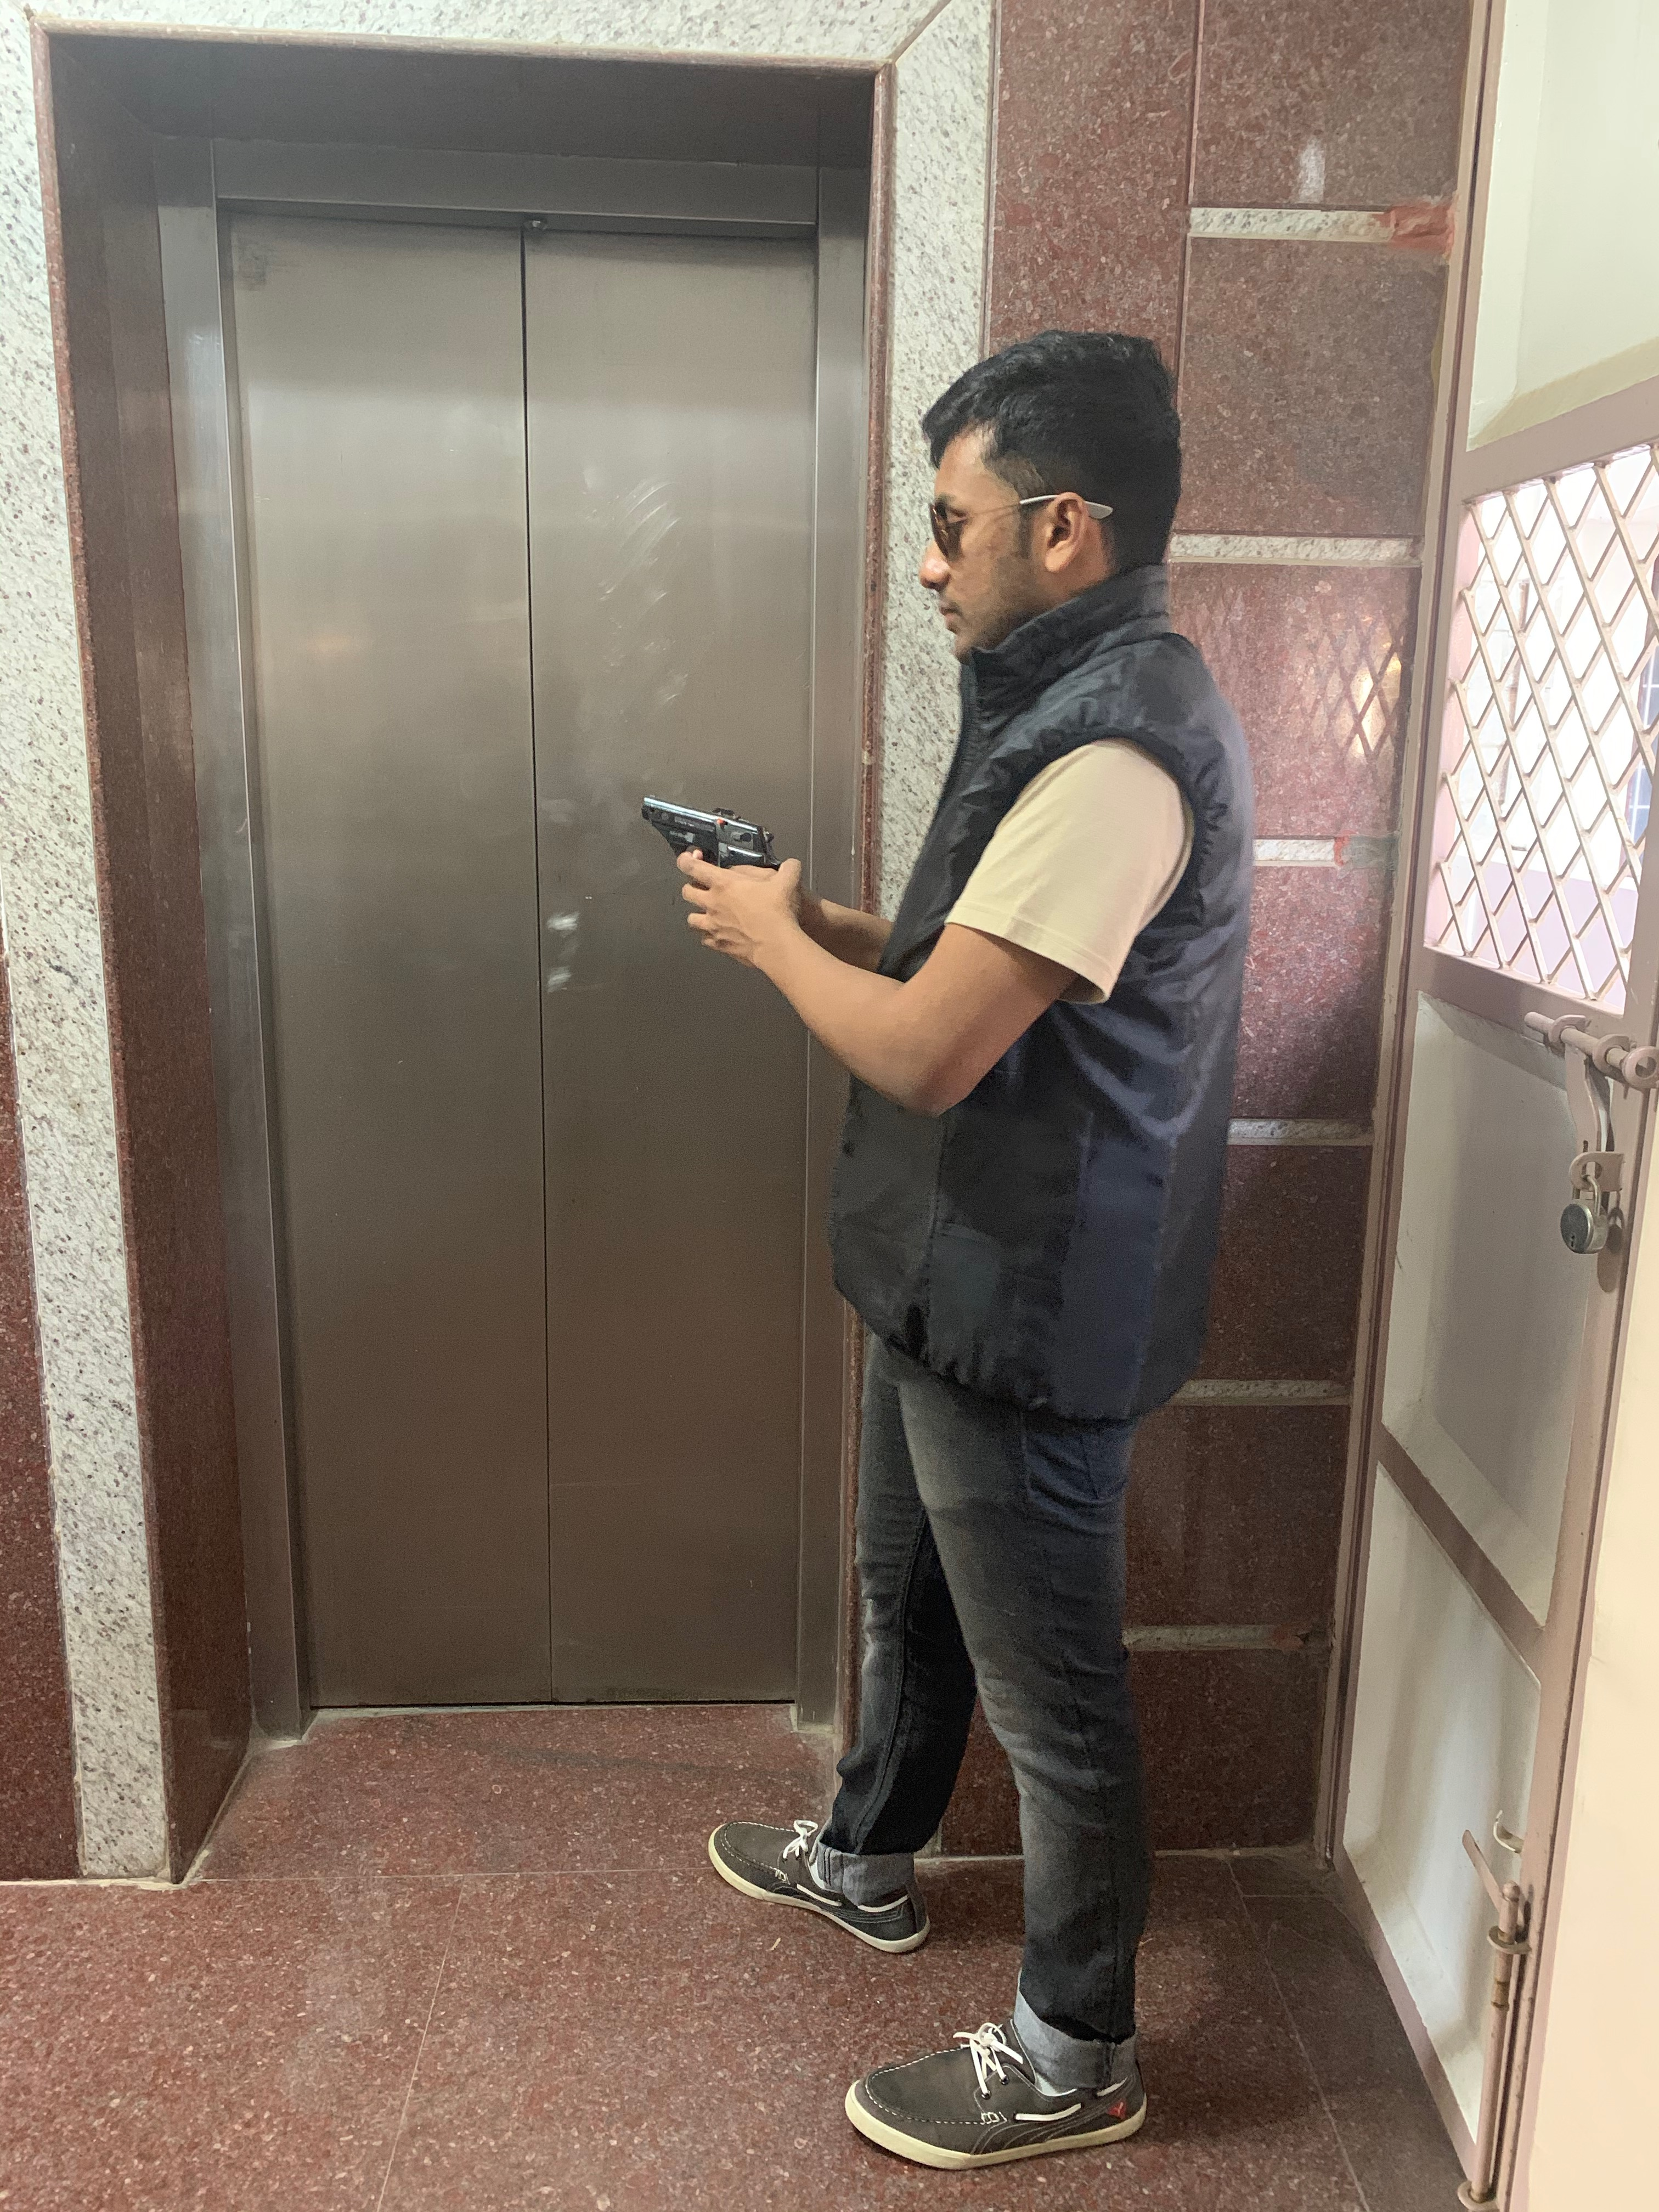gun: (626, 784, 775, 920)
